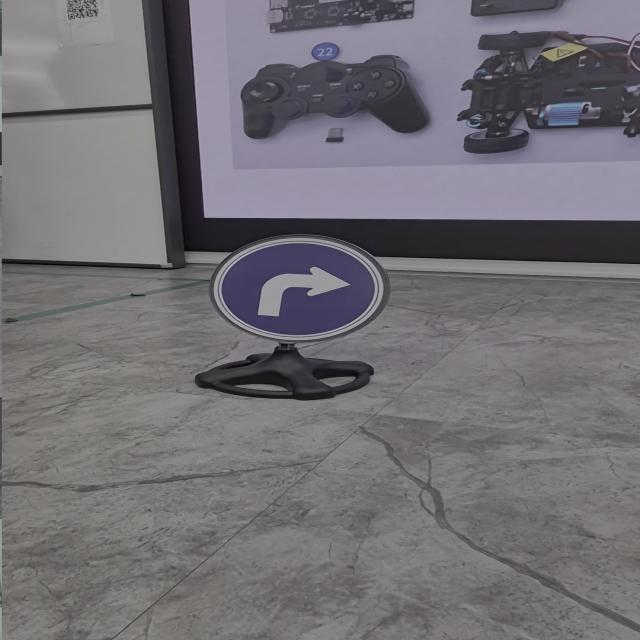right_dierection: (198, 230, 392, 346)
